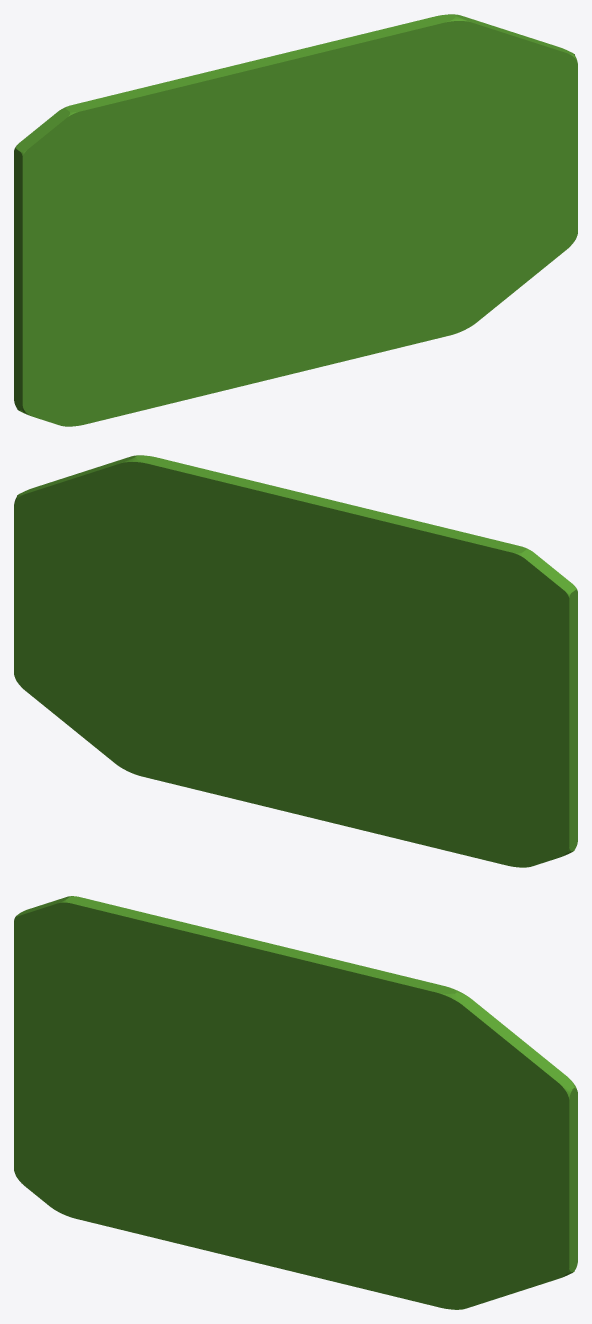
Rendered from scouter1.glb.
The picture shows the model from 3 angles, top to bottom: view 1: azimuth 30°, elevation 25°; view 2: azimuth 150°, elevation 25°; view 3: azimuth 330°, elevation 25°; orthographic projection.
Parts seen in each view (by area): view 1: 立方体; view 2: 立方体; view 3: 立方体.
Part boxes in pixels (bbox=[...]): 立方体: bbox=[14, 14, 577, 426]; 立方体: bbox=[14, 455, 577, 867]; 立方体: bbox=[14, 896, 577, 1309].
Size of the model in its own units: 0.9016 by 0.4875 by 0.0245.
